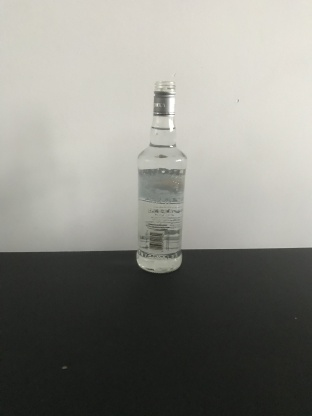nakretka: (151, 78, 177, 117)
